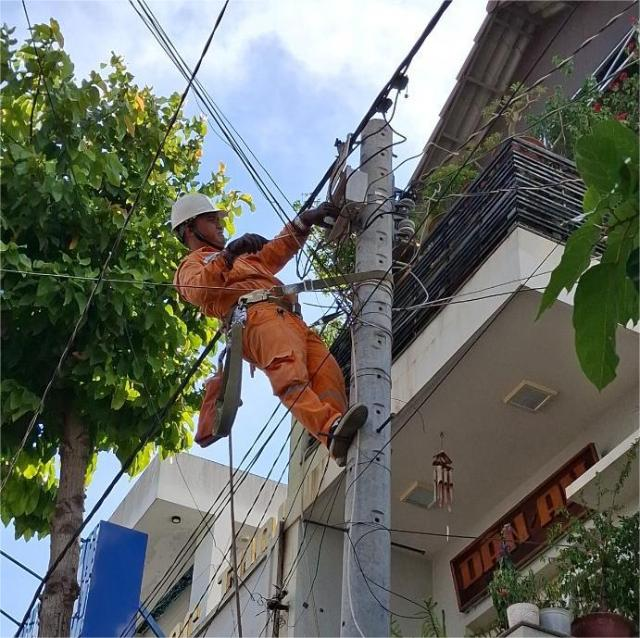gloves: (214, 233, 270, 266), (287, 202, 345, 233)
harness: (209, 283, 315, 321)
helmet: (165, 184, 230, 233)
shoes: (332, 406, 367, 462)
